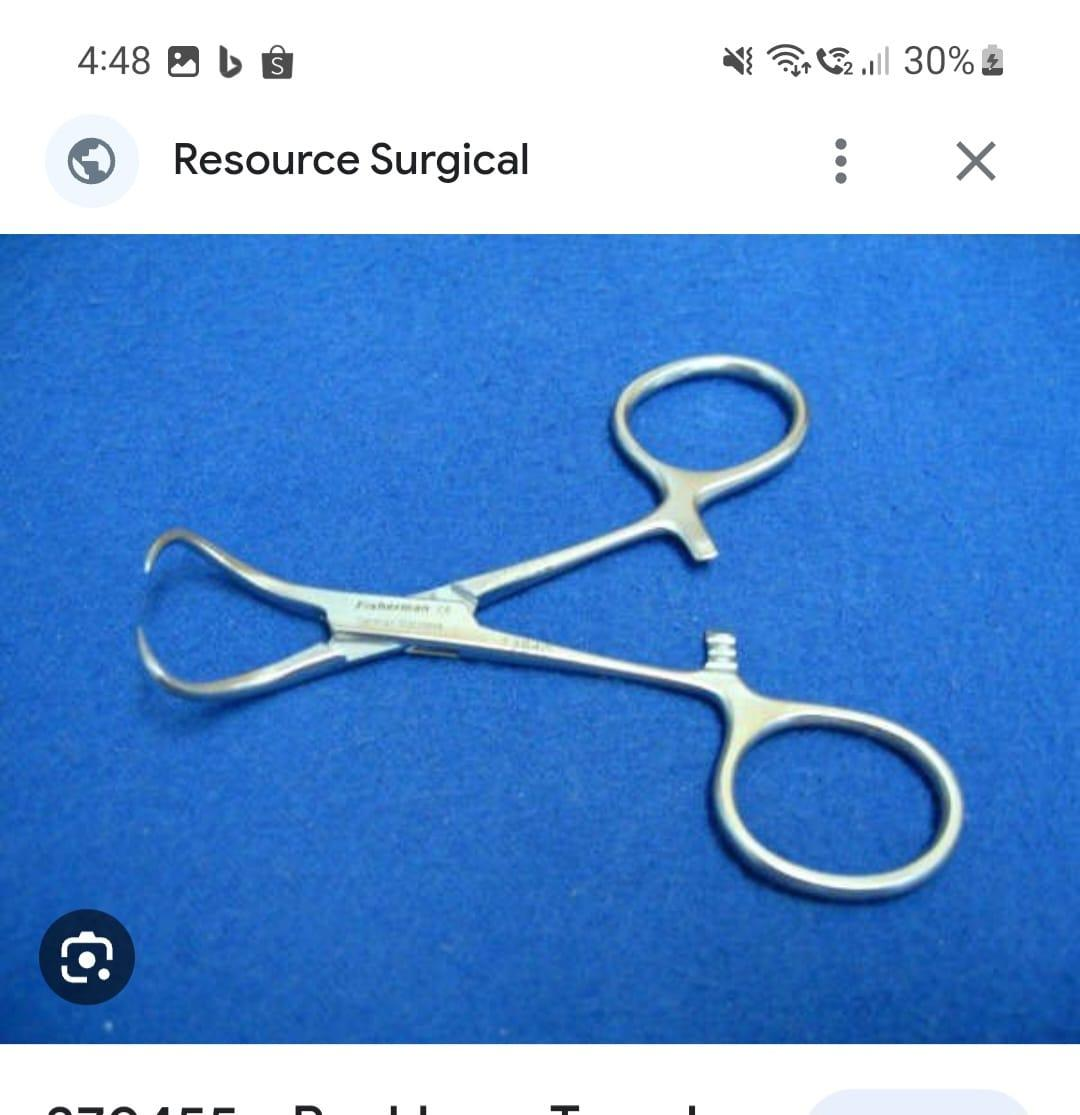Backhaus Towel Clamp: (118, 353, 968, 917)
